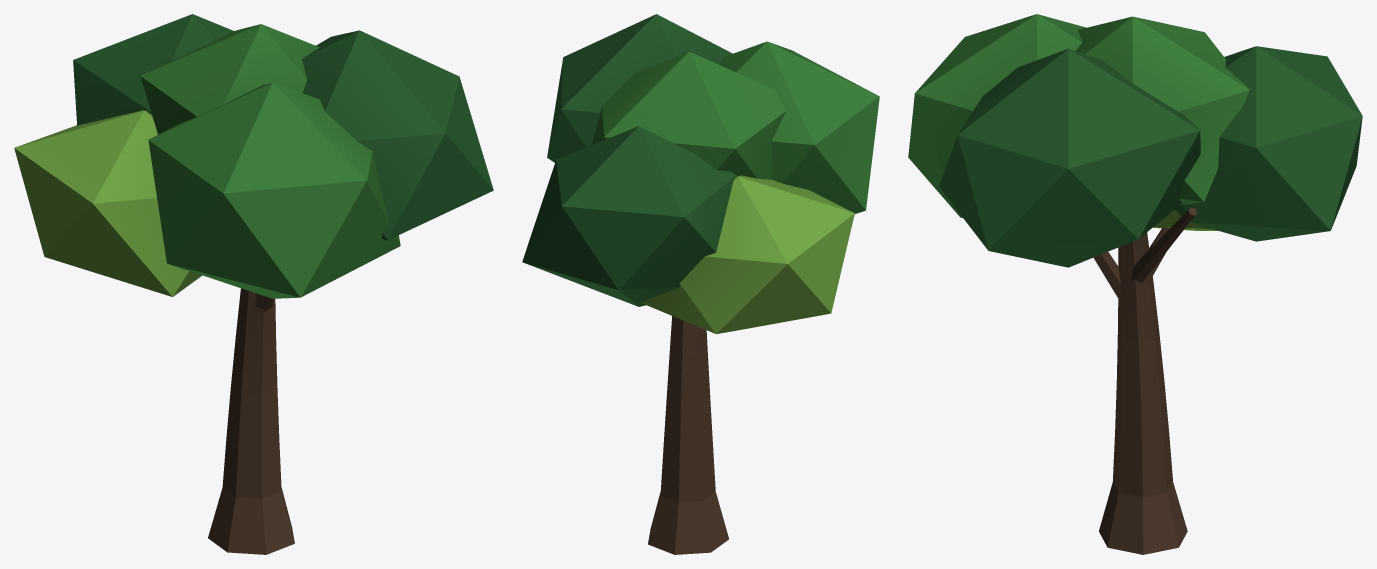
The model's file is Tree1_L.fbx.
The picture shows the model from 3 angles, left to right: view 1: azimuth 30°, elevation 25°; view 2: azimuth 150°, elevation 25°; view 3: azimuth 270°, elevation 25°; orthographic projection. The views are drawn at different scales.
Parts seen in each view (by area): view 1: Tree1_L; view 2: Tree1_L; view 3: Tree1_L.
Boxes of the visible parts, left/top/right/bottom form: Tree1_L: left=14, top=14, right=493, bottom=554; Tree1_L: left=522, top=14, right=879, bottom=554; Tree1_L: left=908, top=14, right=1362, bottom=554.
Size of the model in its own units: 5.02 by 7.06 by 5.58.
